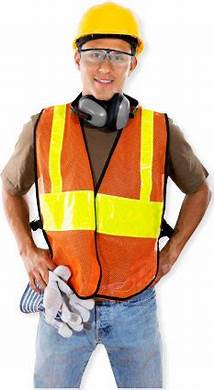Helmet: (68, 1, 148, 104)
Reflective vest: (35, 102, 170, 299)
